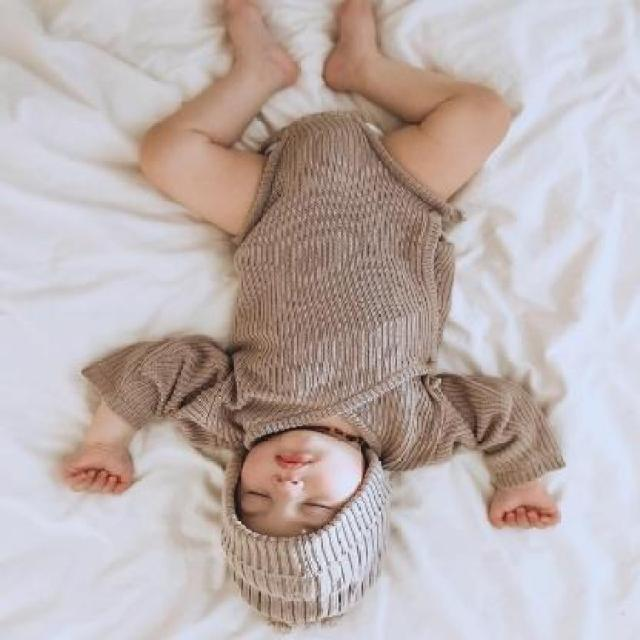baby: (58, 2, 564, 630)
